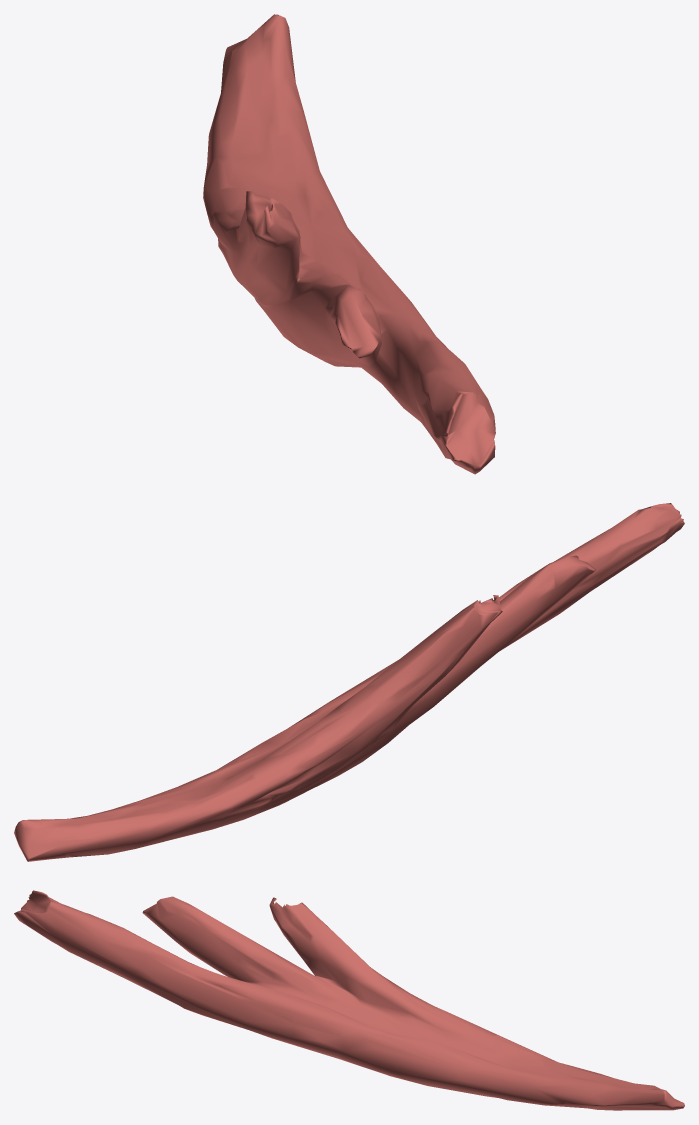
3 renders of one model, top to bottom at view 1: azimuth 30°, elevation 25°; view 2: azimuth 150°, elevation 25°; view 3: azimuth 270°, elevation 25°, orthographic. The views are drawn at different scales.
Visible parts, largest first — view 1: 左侧前斜角肌; view 2: 左侧前斜角肌; view 3: 左侧前斜角肌.
Part boxes in pixels (<box>): 左侧前斜角肌: <box>203,14,495,474</box>; 左侧前斜角肌: <box>14,503,684,861</box>; 左侧前斜角肌: <box>14,890,684,1110</box>.
Bounding box in the file's own units: 0.0506 × 0.0277 × 0.122.
